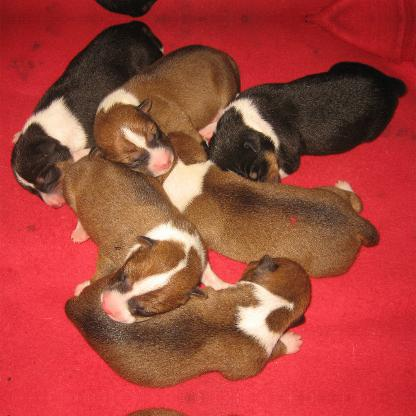Dog: (151, 128, 383, 280), (62, 255, 314, 387), (10, 18, 166, 210), (59, 146, 210, 326), (205, 57, 409, 182), (92, 36, 244, 186)
